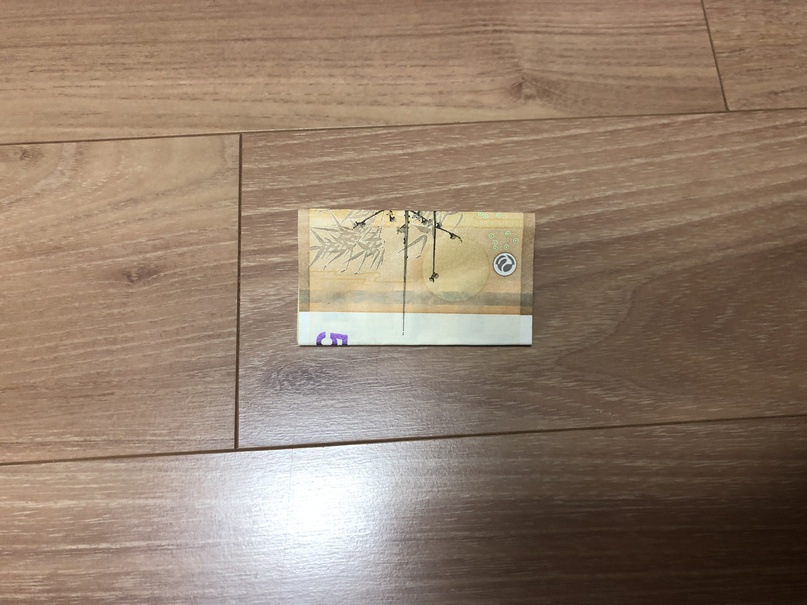50000won: (296, 207, 535, 346)
